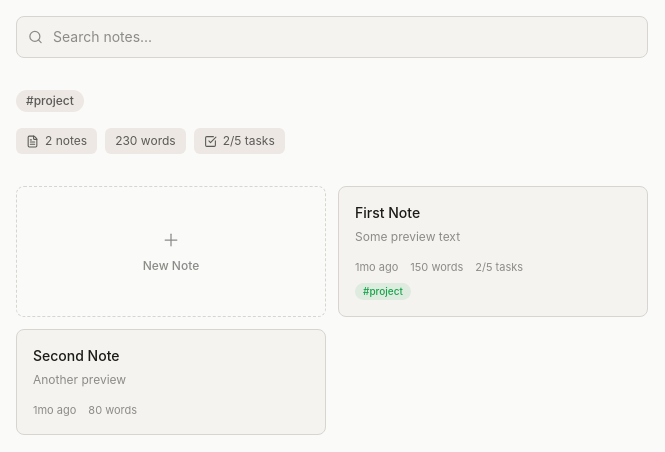
HomePage › shows clear button when searching with no results
Type "nonexistent" into the field with placeholder "Search notes..." at {"x": 332, "y": 37}, box [16, 16, 648, 58]
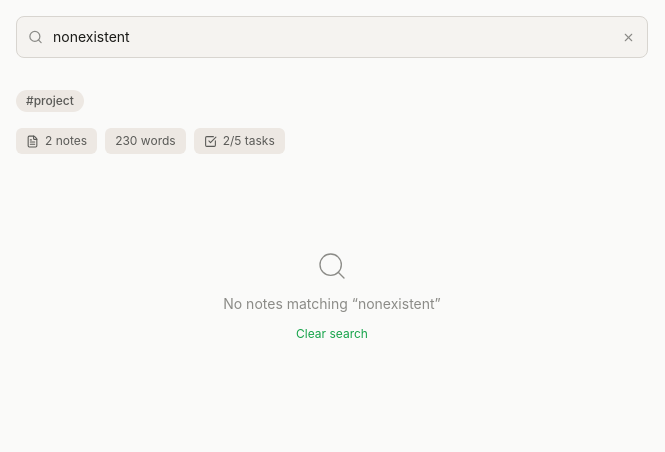
Now the button "Clear search" is shown, box [296, 326, 368, 342]
